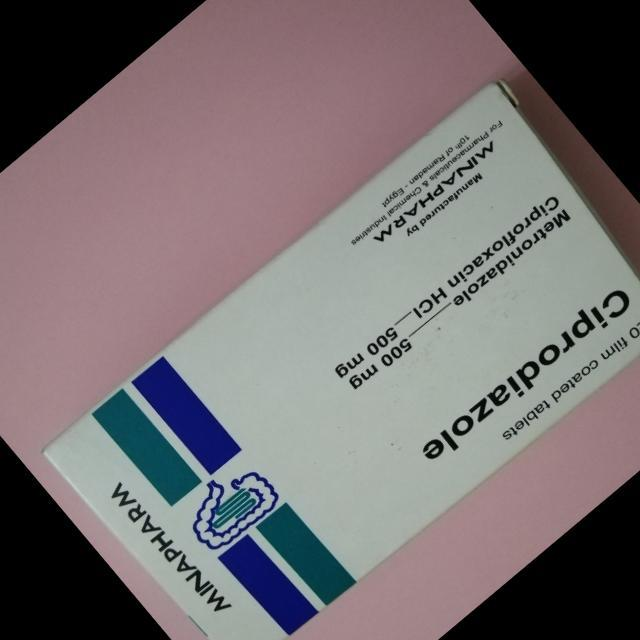Medicine Name: (409, 273, 640, 478)
